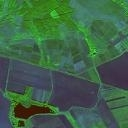alloviz: (12, 100, 56, 119), (16, 119, 25, 128)
